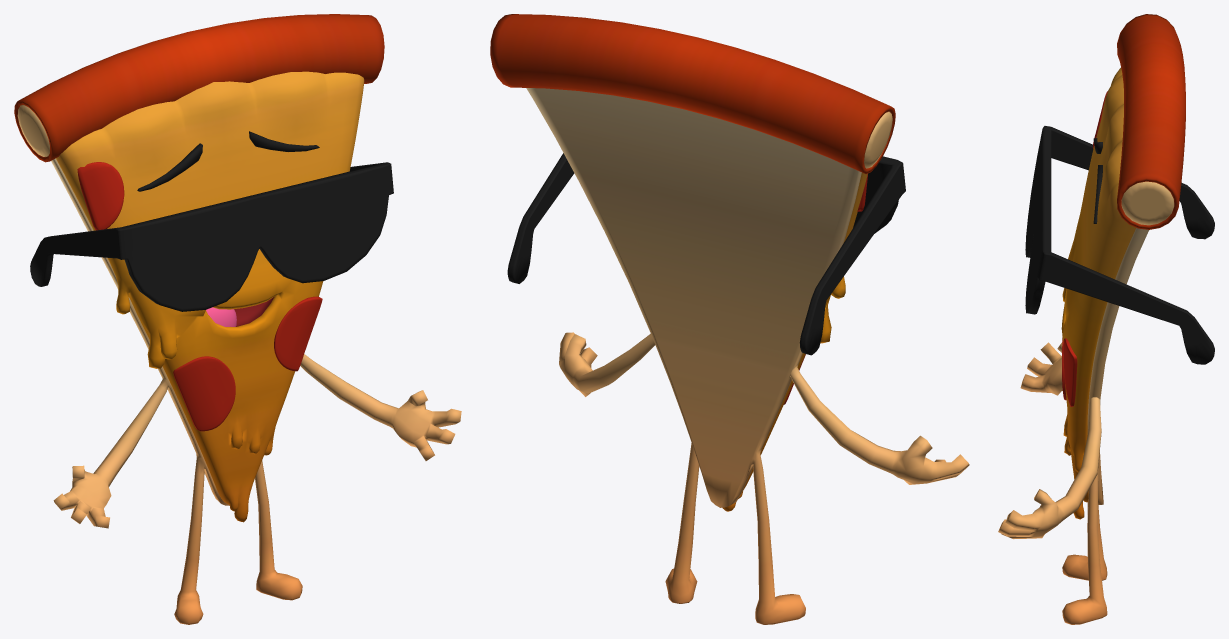
File: PizzaSteve_Low.FBX
3 renders of one model, left to right at view 1: azimuth 30°, elevation 25°; view 2: azimuth 150°, elevation 25°; view 3: azimuth 270°, elevation 25°, orthographic. The views are drawn at different scales.
Visible parts, largest first — view 1: Plane004, Plane006, Cylinder001, Plane003, Cylinder004, Cylinder005, Cylinder006, Plane010, Plane009; view 2: Plane003, Cylinder001, Plane006, Plane004; view 3: Cylinder001, Plane004, Plane006, Plane003, Cylinder006.
Part boxes in pixels (x1,y1,x2,y2): Plane004: [56, 71, 364, 522]; Plane006: [30, 162, 393, 311]; Cylinder001: [14, 14, 384, 162]; Plane003: [51, 158, 461, 624]; Cylinder004: [173, 356, 235, 431]; Cylinder005: [77, 162, 124, 230]; Cylinder006: [274, 296, 322, 371]; Plane010: [137, 143, 202, 191]; Plane009: [249, 131, 319, 151]; Plane003: [526, 88, 969, 624]; Cylinder001: [490, 14, 895, 173]; Plane006: [507, 153, 905, 355]; Plane004: [722, 172, 867, 511]; Cylinder001: [1117, 14, 1185, 229]; Plane004: [1061, 68, 1135, 519]; Plane006: [1025, 126, 1214, 364]; Plane003: [998, 228, 1149, 624]; Cylinder006: [1063, 338, 1077, 406].
Bounding box in the file's own units: 76.6 × 103 × 38.49.
Materials: 8 (3 with a texture image).
